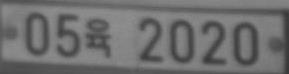0: (170, 19, 194, 62), (233, 22, 257, 64), (25, 12, 48, 55)
2: (201, 19, 226, 64), (139, 17, 162, 61)
5: (56, 14, 80, 57)
육: (85, 18, 111, 57)
